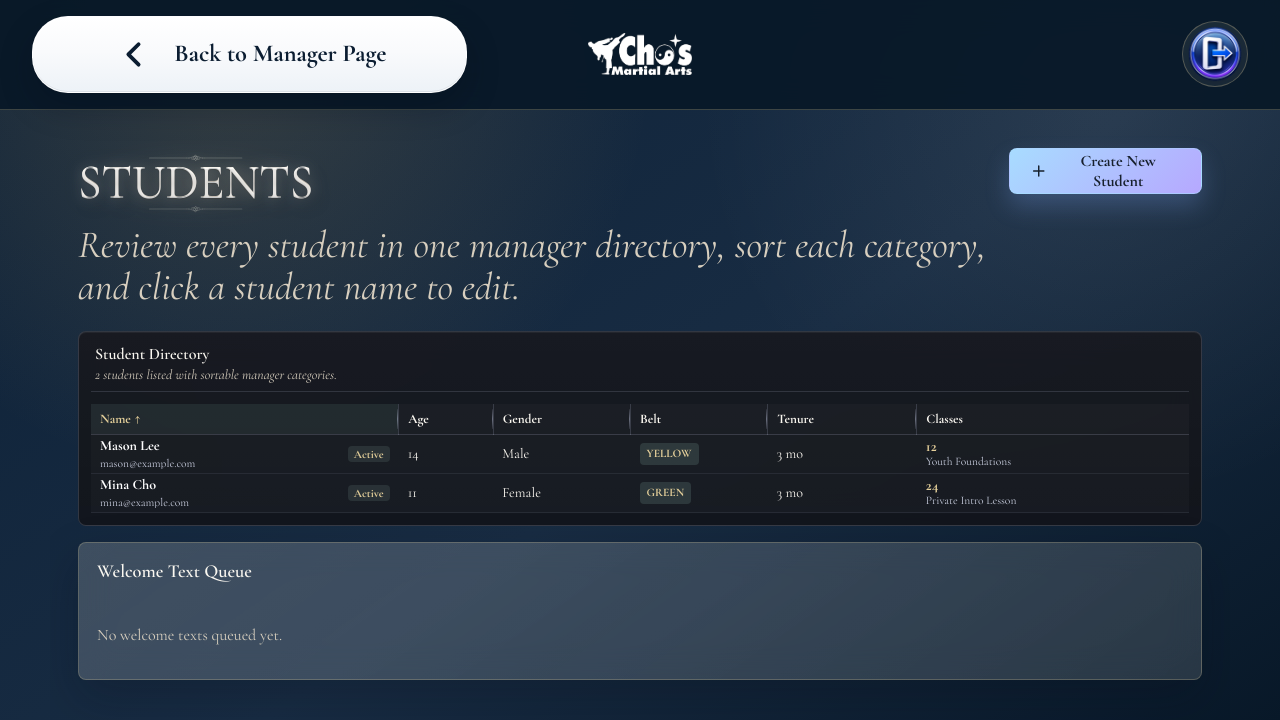
Test case: post-login operations app › keeps prototype state usable when localStorage writes fail
This screenshot has width=1280, height=720.
Click the button "Create New Student": {"x": 1105, "y": 171} 1009,148 -> 1202,194
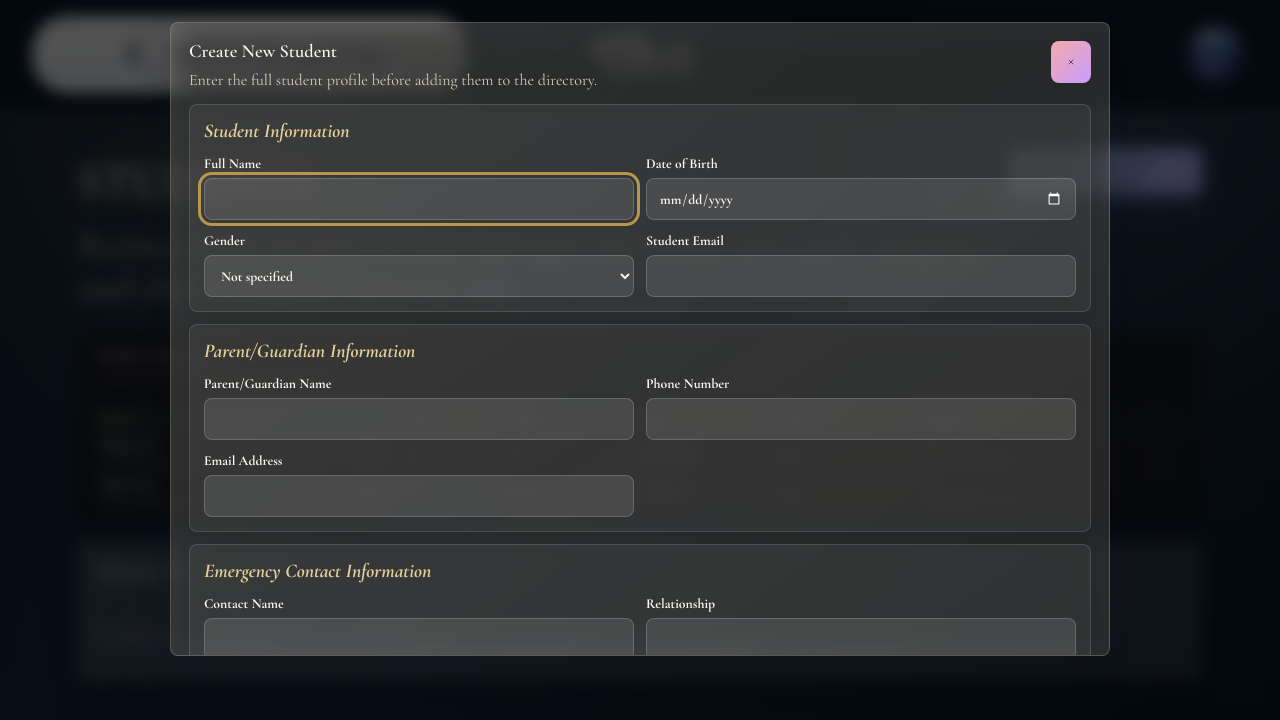
In the field labelled "Full Name": {"x": 419, "y": 199} 204,178 -> 634,220, type "Nora Kim"
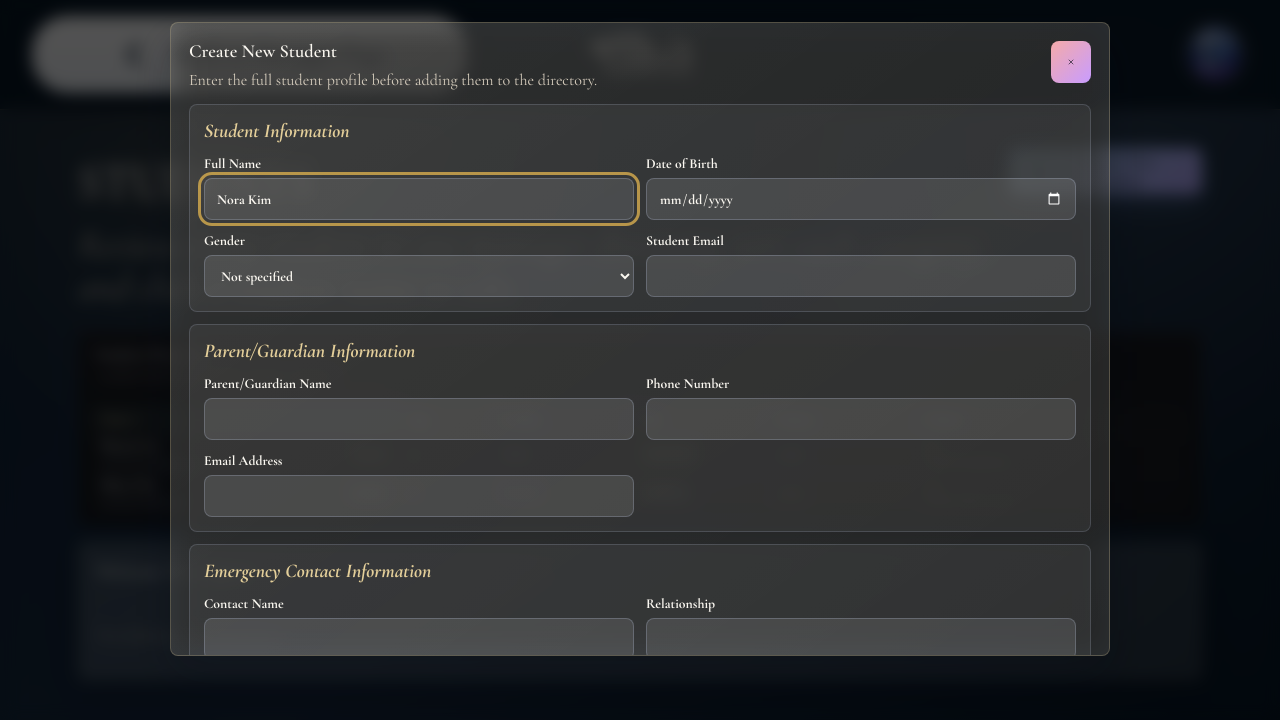
In the field labelled "Student Email": {"x": 861, "y": 276} 646,255 -> 1076,297, type "nora@example.com"
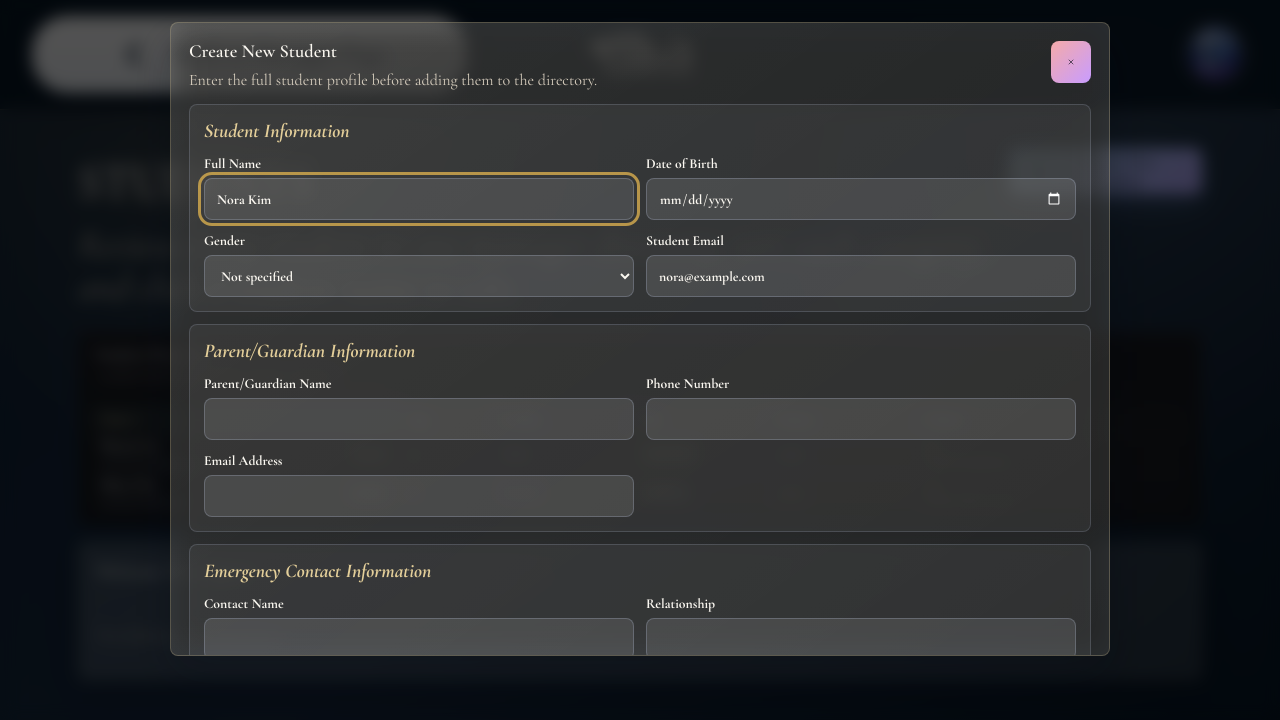
In the field named "Parent/Guardian Phone Number": {"x": 861, "y": 419} 646,398 -> 1076,440, type "(262) 555-0177"
(page scrolled)
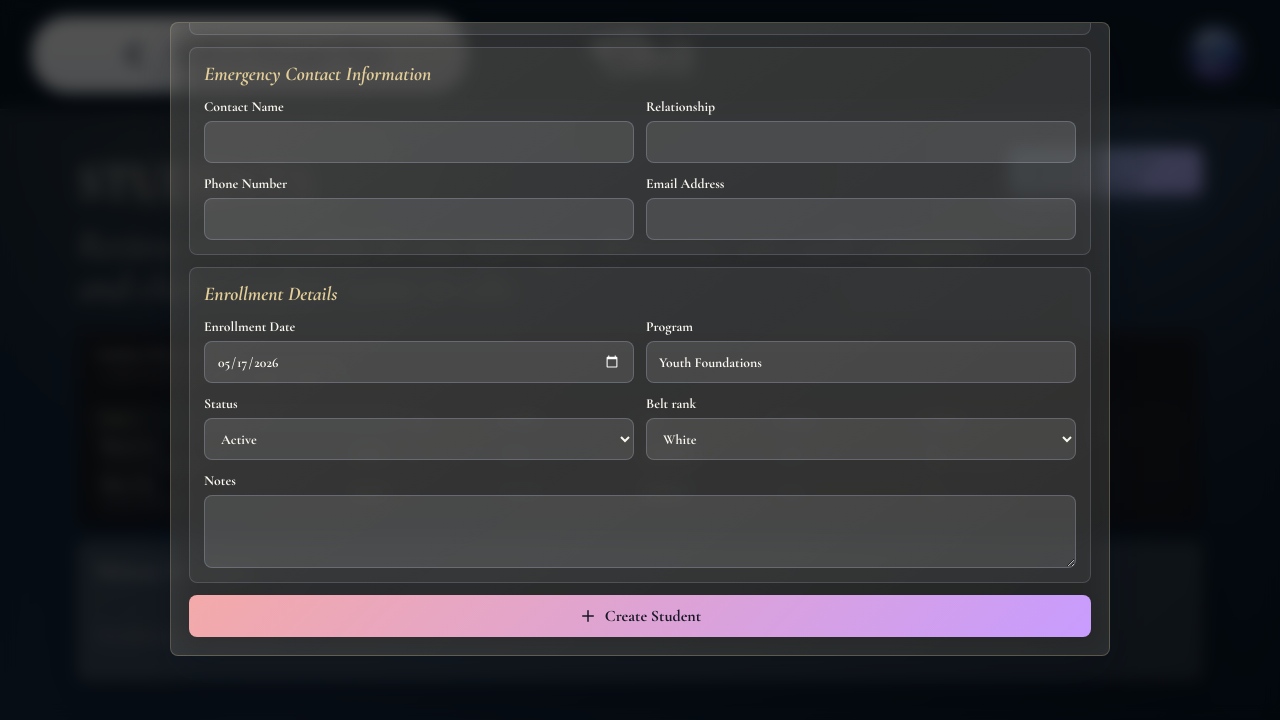
Click the button "Create Student": {"x": 640, "y": 616} 189,595 -> 1091,637
(page scrolled)
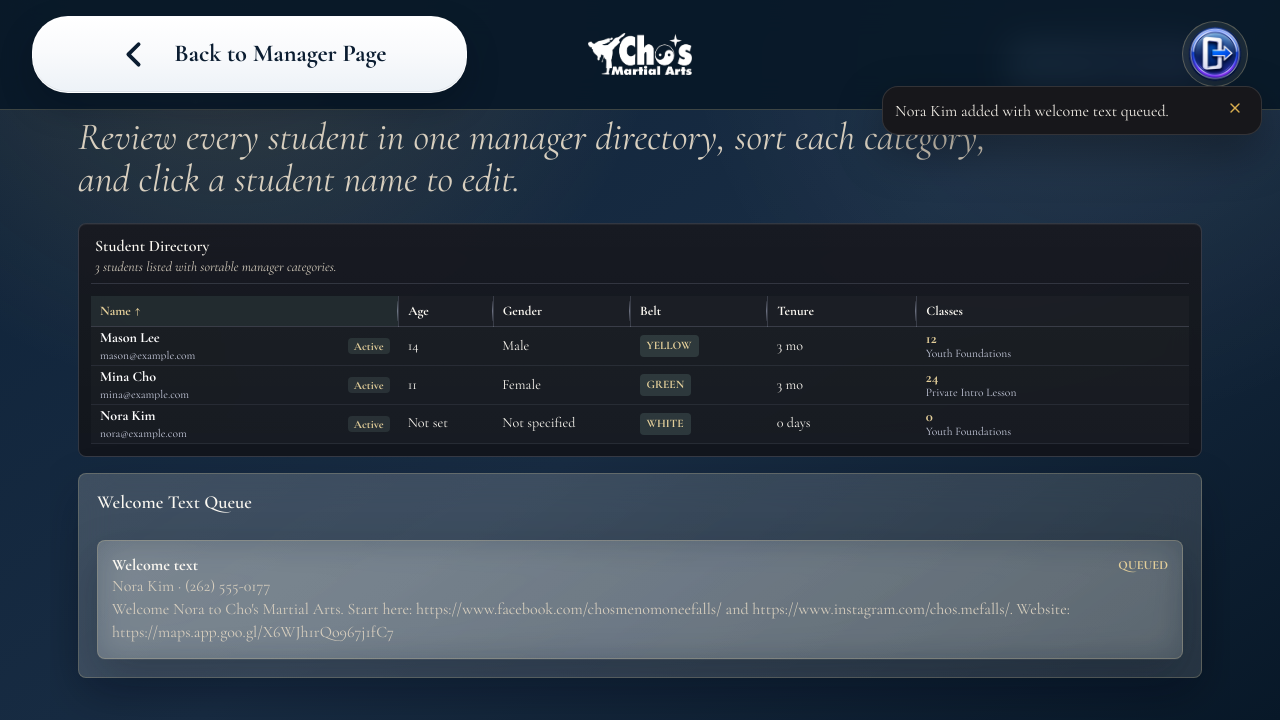
Check: the text "Nora Kim" is shown, box 100,407 -> 156,424
Check: the text "Welcome Nora to Cho's" is shown, box 112,599 -> 1070,642
